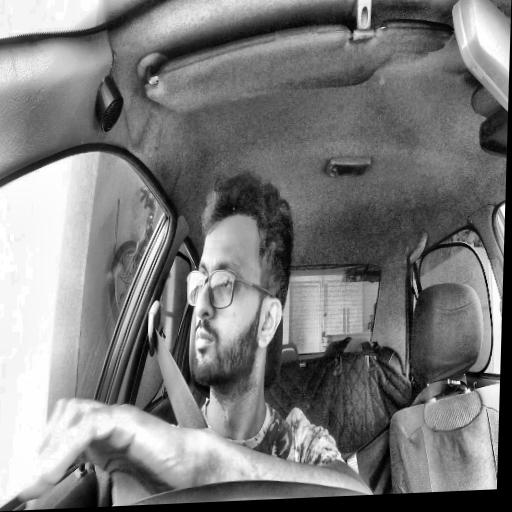awake: (182, 175, 296, 398)
